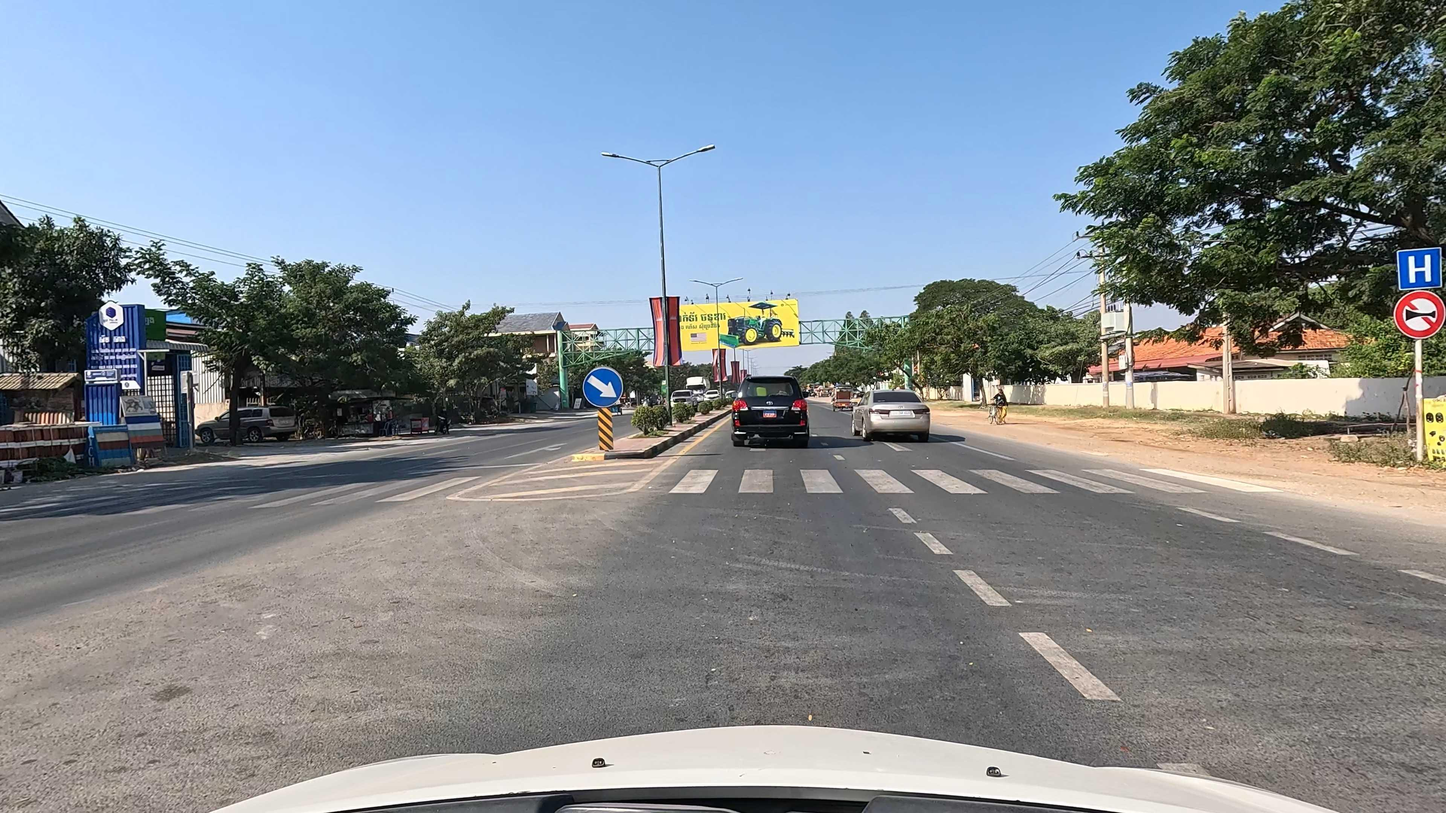hospital: (1396, 248, 1445, 289)
keep_right: (576, 364, 625, 410)
no_honking: (1392, 291, 1445, 340)
